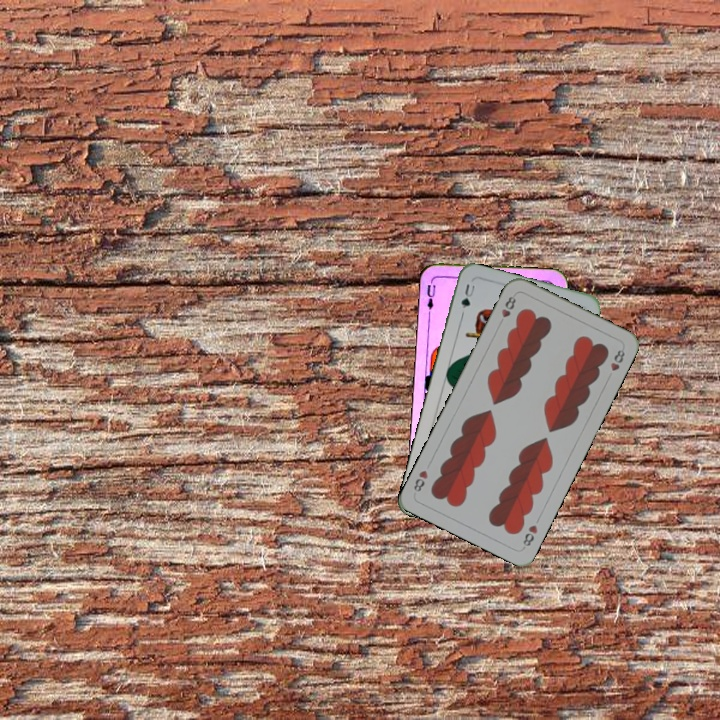EU: (423, 276, 438, 316)
GU: (457, 280, 477, 311)
H8: (519, 521, 540, 551), (497, 292, 519, 320)
